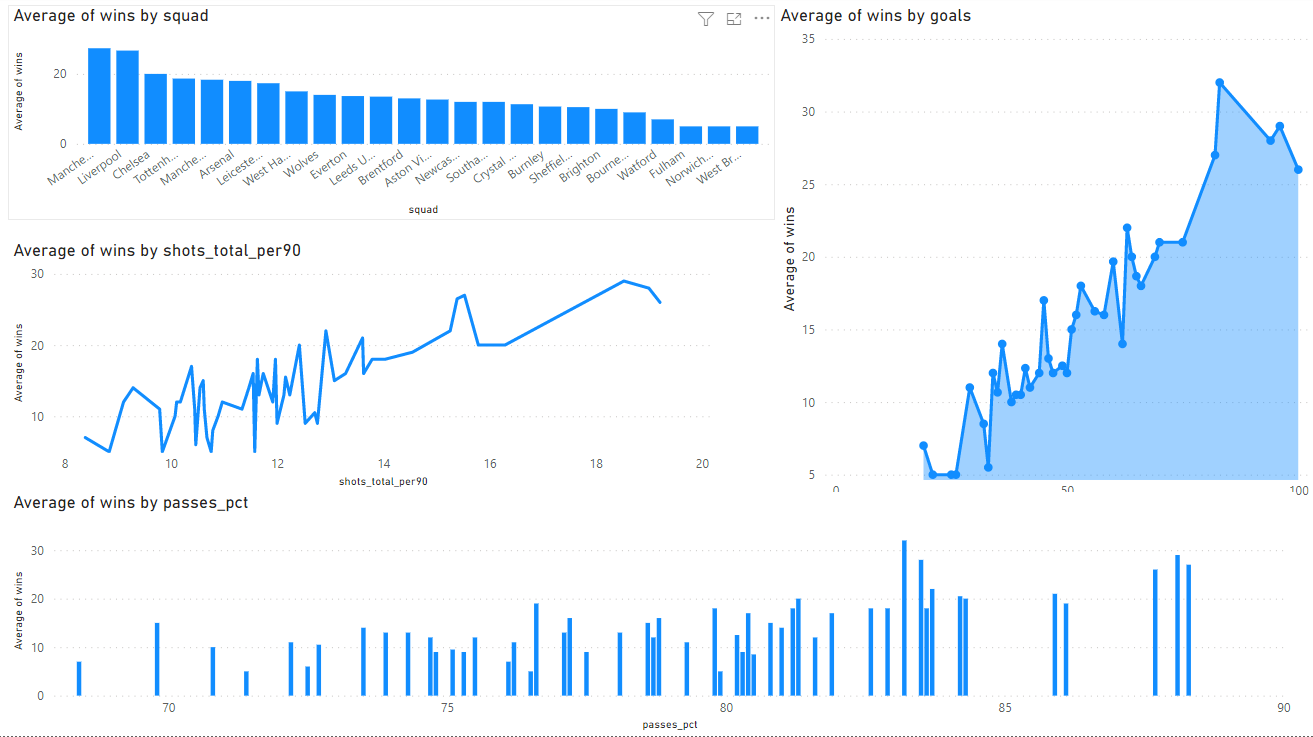

The page's visual inventory and layout, read from the dashboard file:
{"tool":"powerbi","page":{"name":"Page 1","canvas":[1280,720],"ordinal":0},"visuals":[{"type":"columnChart","fields":{"Y":["Avg(Sheet1.wins)"],"Category":["Sheet1.squad"]},"box":[9.7,8.8,746,209.1],"z":0},{"type":"stackedAreaChart","fields":{"Category":["Sheet1.goals"],"Y":["Avg(Sheet1.wins)"]},"box":[755.7,8.8,524.3,473.7],"z":1000},{"type":"lineStackedColumnComboChart","fields":{"Category":["Sheet1.passes_pct"],"Y":["Avg(Sheet1.wins)"]},"box":[9.7,482.4,1252.8,237.3],"z":2000},{"type":"lineChart","fields":{"Category":["Sheet1.shots_total_per90"],"Y":["Avg(Sheet1.wins)"]},"box":[9.7,237.3,689.6,245.1],"z":3000}]}

Visuals, with their boxes in screenshot pixels (x1, y1, x2, y2), scaled from the page's 1280x720 canvas onto the 1313x737 screenshot:
columnChart - Avg(Sheet1.wins) x Sheet1.squad: pyautogui.locateOnScreen(10, 9, 775, 223)
stackedAreaChart - Sheet1.goals x Avg(Sheet1.wins): pyautogui.locateOnScreen(775, 9, 1312, 494)
lineStackedColumnComboChart - Sheet1.passes_pct x Avg(Sheet1.wins): pyautogui.locateOnScreen(10, 494, 1295, 736)
lineChart - Sheet1.shots_total_per90 x Avg(Sheet1.wins): pyautogui.locateOnScreen(10, 243, 717, 494)
